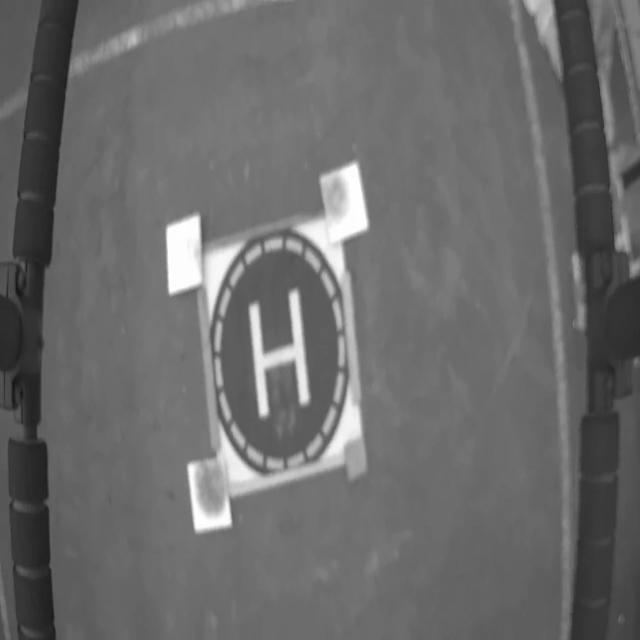Helipad: (248, 290, 314, 420)
